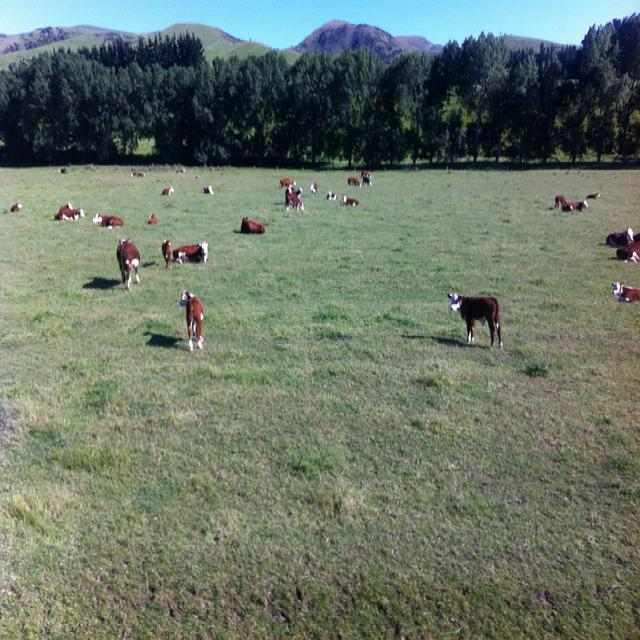cow: (9, 161, 638, 418), (446, 292, 502, 348), (179, 288, 204, 351), (115, 237, 139, 288), (171, 240, 207, 263), (604, 225, 633, 246), (91, 210, 123, 226), (238, 214, 264, 233), (559, 197, 587, 213), (160, 237, 171, 269), (285, 190, 303, 209), (340, 194, 358, 205), (346, 174, 359, 185), (308, 181, 316, 195), (325, 189, 336, 198)
